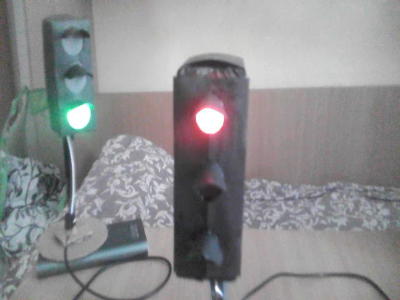trafficlight_green: (54, 19, 95, 131)
trafficlight_red: (175, 73, 241, 277)
